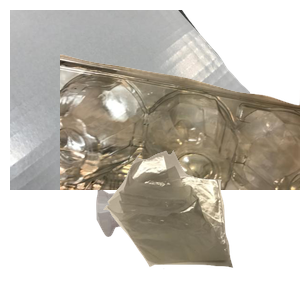cardboard: (10, 10, 250, 190)
glass: (94, 184, 253, 300)
plastic: (60, 52, 300, 232)
trash: (101, 148, 300, 300)
